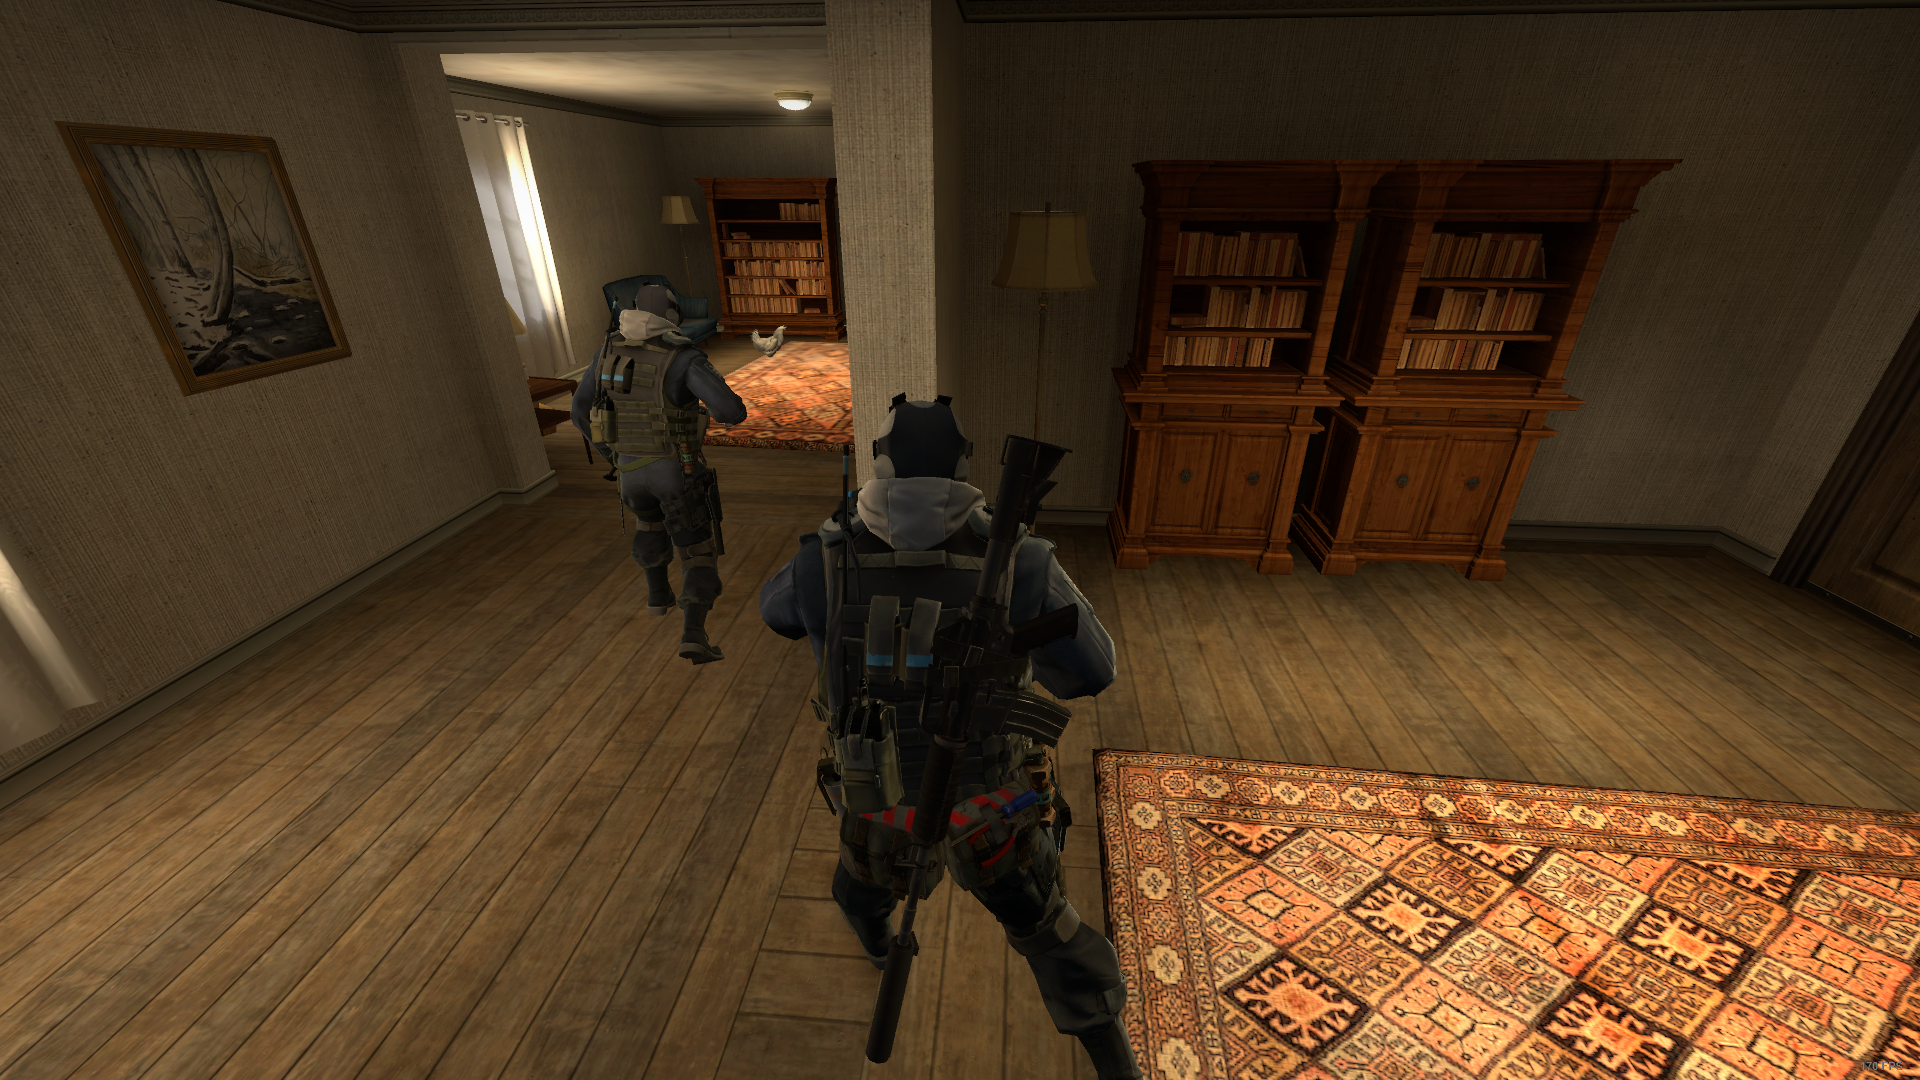ct: (761, 392, 1156, 1080), (571, 285, 748, 667)
